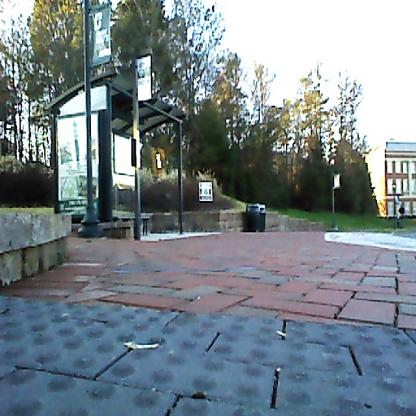Edge: (0, 228, 218, 397), (330, 241, 416, 268)
Sidewalk: (0, 229, 416, 416)
